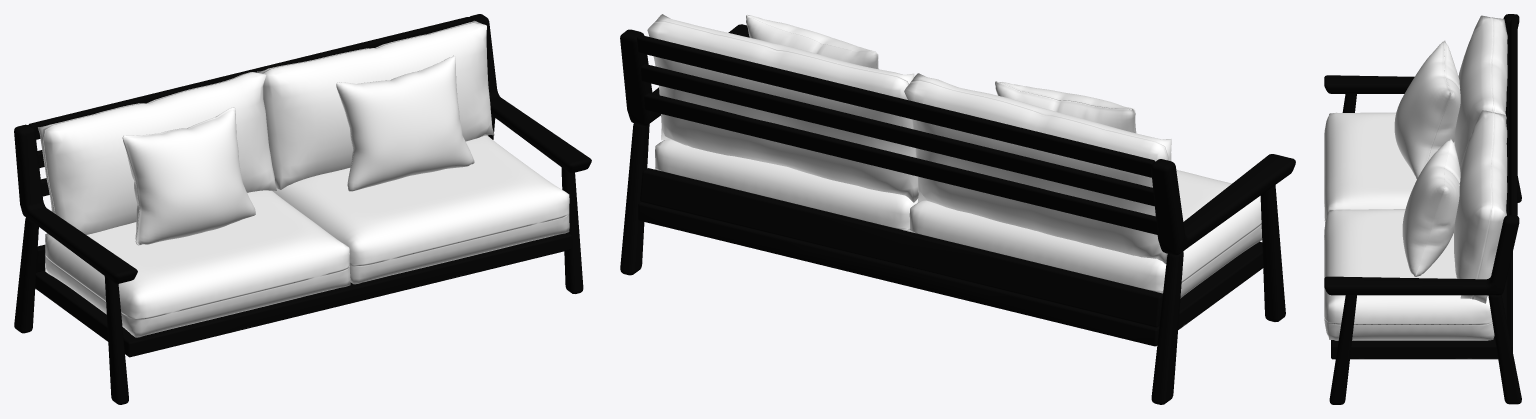
Rendered from sofa_web.glb.
3 views of the same model, side by side, from view 1: azimuth 30°, elevation 25°; view 2: azimuth 150°, elevation 25°; view 3: azimuth 270°, elevation 25° (orthographic). The views are drawn at different scales.
Parts seen in each view (by area): view 1: Cotton Mini Sofa; view 2: Cotton Mini Sofa; view 3: Cotton Mini Sofa.
Part boxes in pixels (bbox=[...]): Cotton Mini Sofa: bbox=[14, 14, 591, 404]; Cotton Mini Sofa: bbox=[620, 14, 1295, 404]; Cotton Mini Sofa: bbox=[1324, 14, 1521, 404].
Bounding box in the file's own units: 2.56 × 1.1 × 1.01.
Materials: 1 (1 with a texture image).
